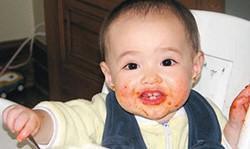Healthy: (95, 7, 206, 125)
